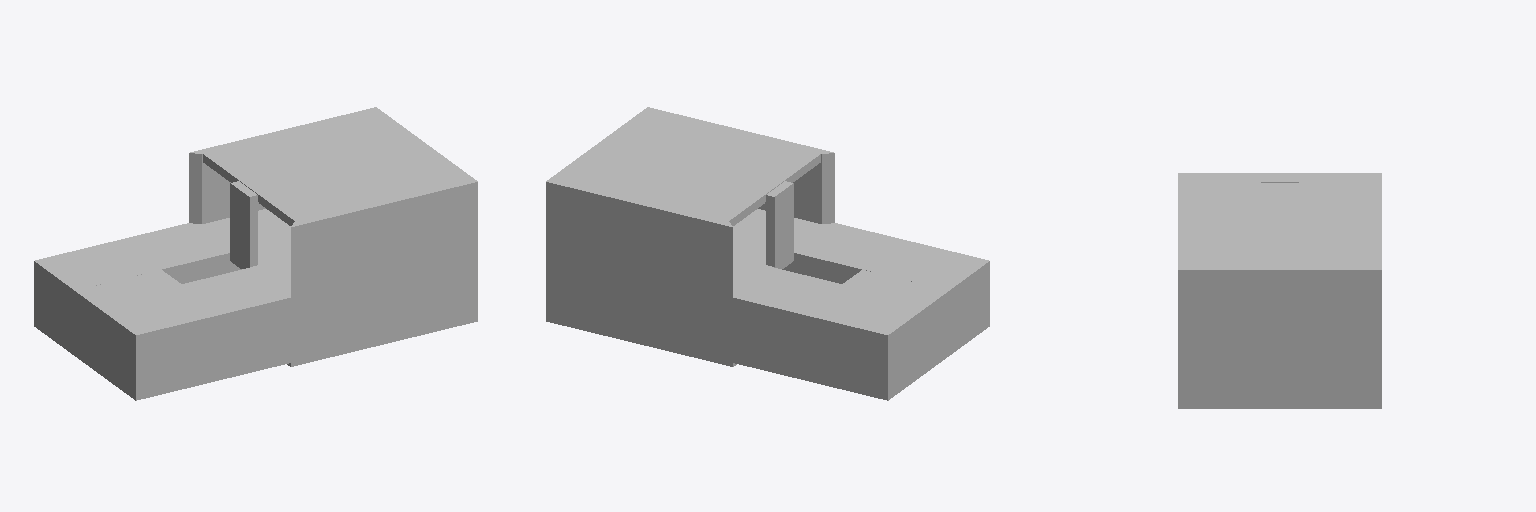
File: other_map.obj
3 renders of one model, left to right at view 1: azimuth 30°, elevation 25°; view 2: azimuth 150°, elevation 25°; view 3: azimuth 270°, elevation 25°, orthographic.
Visible parts, largest first — view 1: Cube; view 2: Cube; view 3: Cube.
Part boxes in pixels (bbox=[...]): Cube: bbox=[34, 107, 477, 400]; Cube: bbox=[546, 107, 989, 400]; Cube: bbox=[1178, 173, 1381, 408].
Bounding box in the file's own units: 19.28 × 7.52 × 9.96.